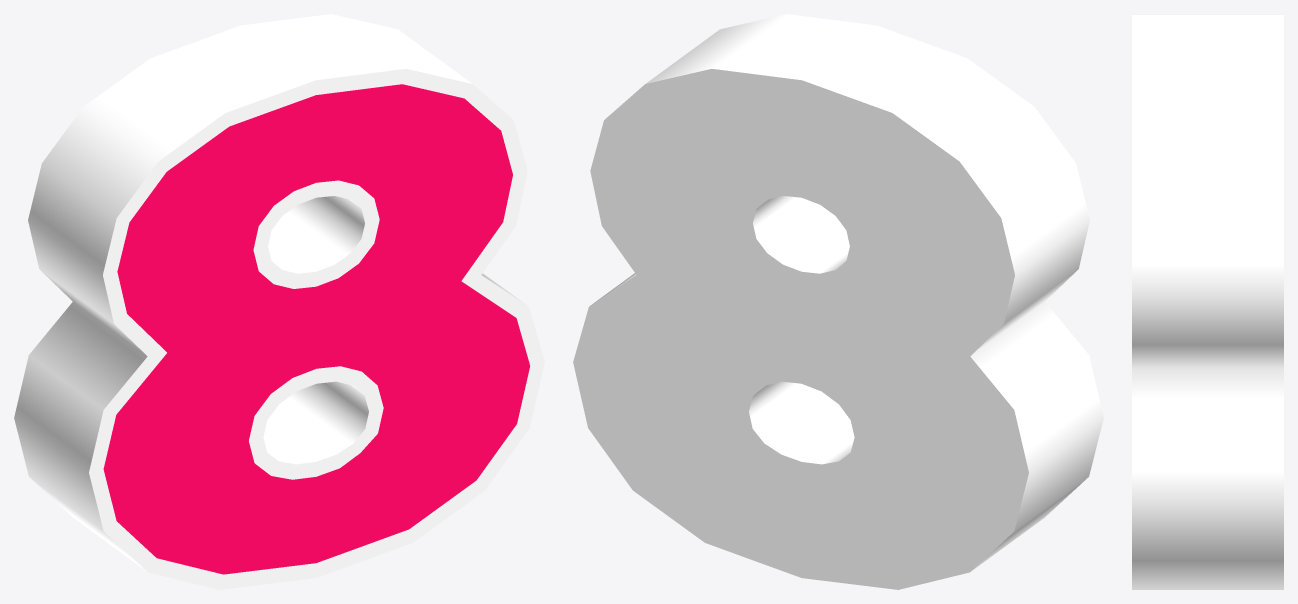
The model's file is number_8.glb.
3 views of the same model, side by side, from view 1: azimuth 30°, elevation 25°; view 2: azimuth 150°, elevation 25°; view 3: azimuth 270°, elevation 25° (orthographic).
Visible parts, largest first — view 1: Nmbr.8; view 2: Nmbr.8; view 3: Nmbr.8.
Part boxes in pixels (<box>): Nmbr.8: <box>14,14,544,589</box>; Nmbr.8: <box>573,14,1103,589</box>; Nmbr.8: <box>1132,14,1283,589</box>.
Bounding box in the file's own units: 1.07 × 1.12 × 0.3052.
Materials: 1 (1 with a texture image).
